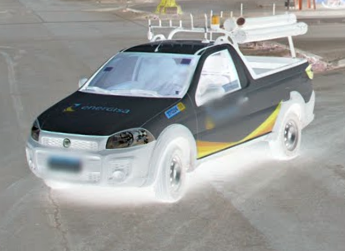car: (23, 3, 317, 202)
